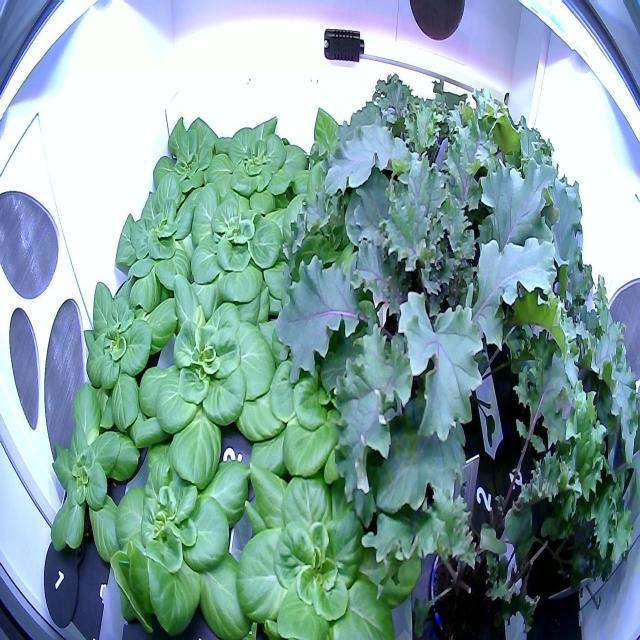young: (231, 445, 427, 640), (104, 413, 263, 640), (248, 280, 418, 487), (126, 274, 288, 490), (38, 376, 150, 571), (65, 257, 181, 443), (107, 158, 215, 328), (182, 178, 298, 324), (196, 103, 312, 224), (283, 160, 396, 280), (291, 94, 384, 205), (147, 104, 229, 225)
